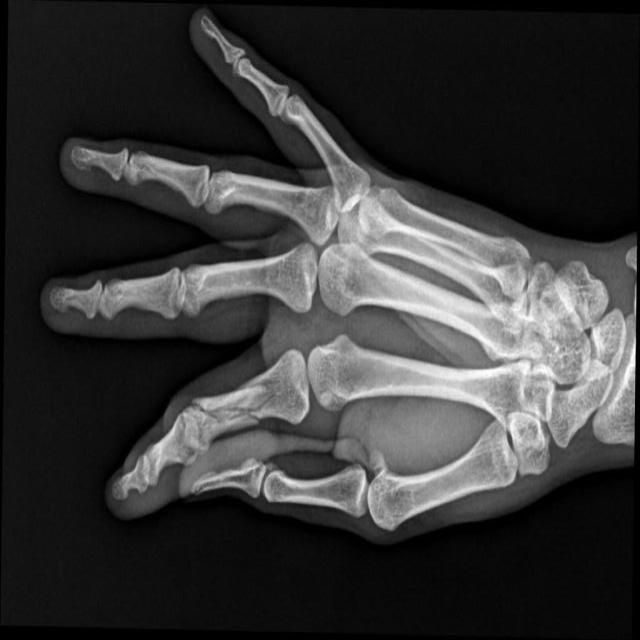Avulsion-fracture-: (192, 383, 288, 446)
